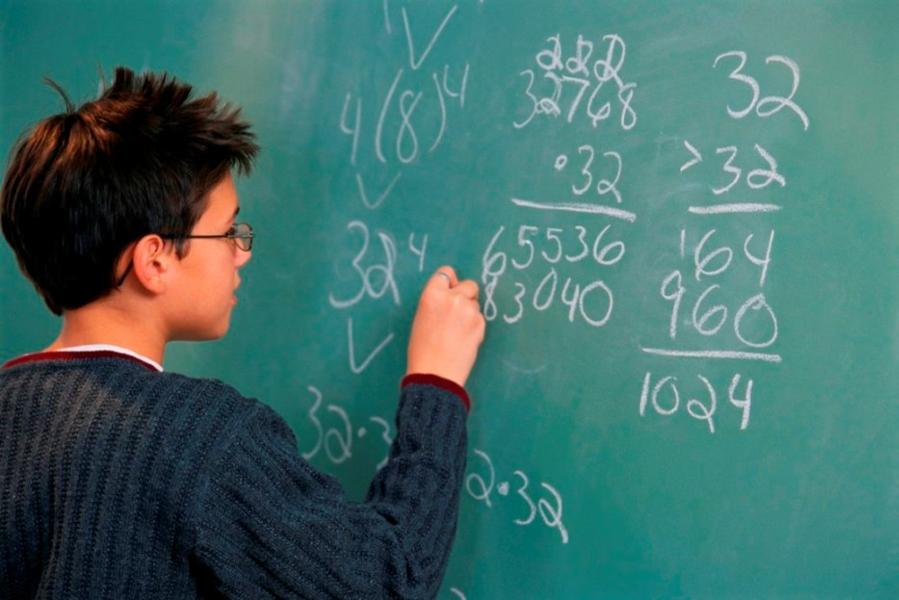person: (6, 73, 486, 598)
